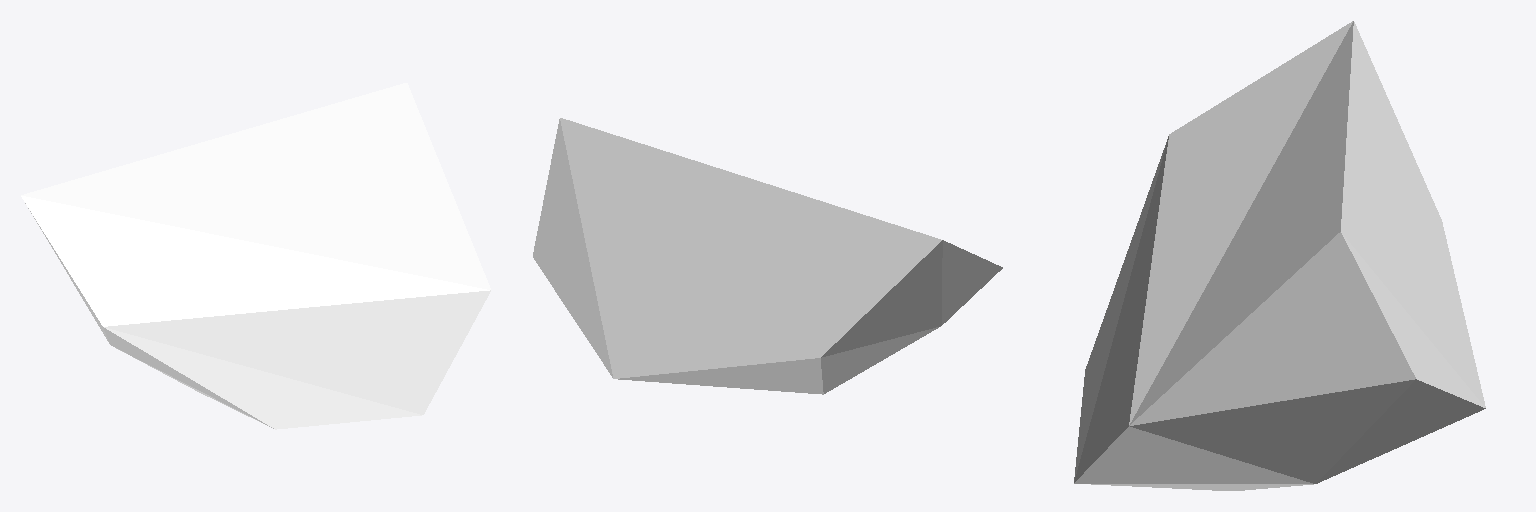
URDF robot description (solo_LFleg_rom):
<robot name="solo_LFleg_rom">
  <link name="base_link">
    <visual>
      <origin xyz="0 0 0" rpy="0 0 0" />
      <geometry>
        <mesh filename="package://solo-rbprm/meshes/FLleg_rom_reduced.stl"/>
      </geometry>
      <material name="white">
        <color rgba="1 1 1 1"/>
      </material>
    </visual>
    <collision>
      <origin xyz="0 0 0" rpy="0 0 0" />
      <geometry>
        <mesh filename="package://solo-rbprm/meshes/FLleg_rom_reduced.stl"/>
      </geometry>
    </collision>
  </link>
</robot>

--- What the picture shows (computed from the rendered views, not written in the file) ---
The picture shows the robot from 3 angles, left to right: view 1: azimuth 30°, elevation 25°; view 2: azimuth 150°, elevation 25°; view 3: azimuth 270°, elevation 25°; orthographic projection.
Robot: solo_LFleg_rom — 1 links, 0 joints (none); root link base_link; default pose: every joint at zero.
Links seen in each view (by area): view 1: base_link; view 2: base_link; view 3: base_link.
Link boxes in pixels (left/top/right/bottom): base_link: left=21, top=83, right=490, bottom=429; base_link: left=533, top=118, right=1002, bottom=394; base_link: left=1074, top=21, right=1485, bottom=490.
Bounding box of the posed robot: 0.4261 × 0.3052 × 0.2778 m (x, y, z).
Meshes: 1 distinct files referenced, 1 mesh visuals loaded (1 binary STL).